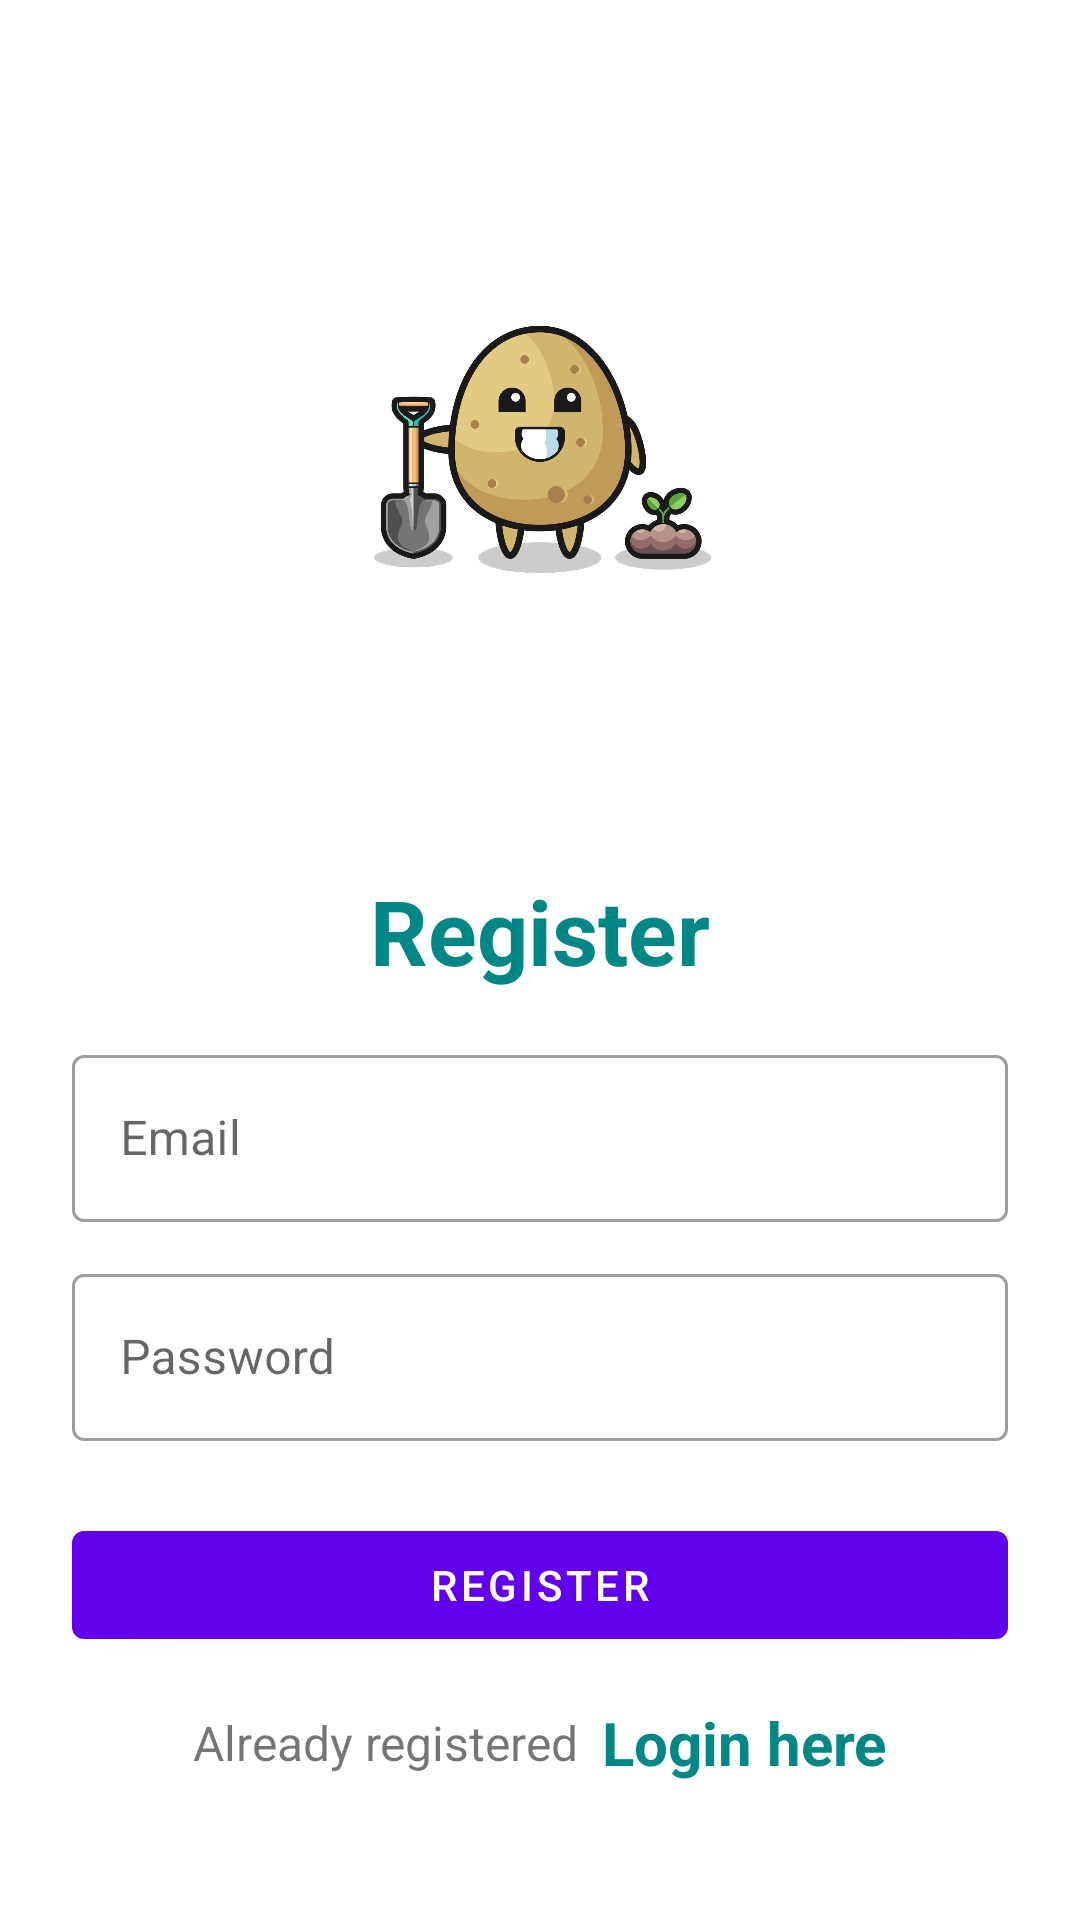

Icon bounding boxes for this 1080w x 1920h phone screenshot, format BBox(x1, y1, x2, y2):
potatoimg: BBox(374, 326, 711, 573)
